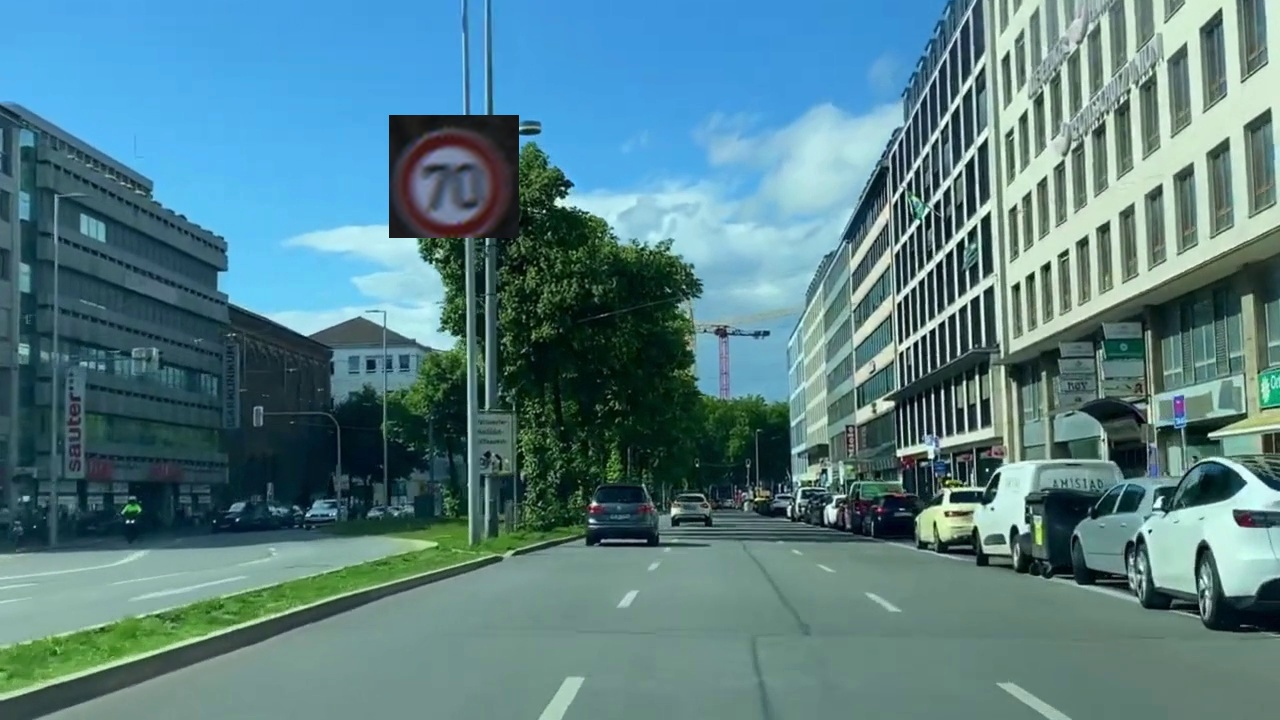Speed 70: (389, 115, 519, 238)
